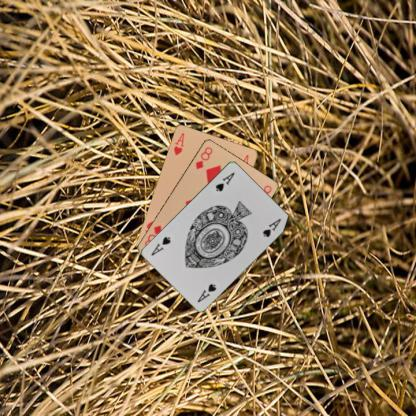8d: (193, 144, 214, 170)
Ah: (171, 130, 185, 157)
As: (212, 170, 235, 192), (195, 281, 217, 303)
